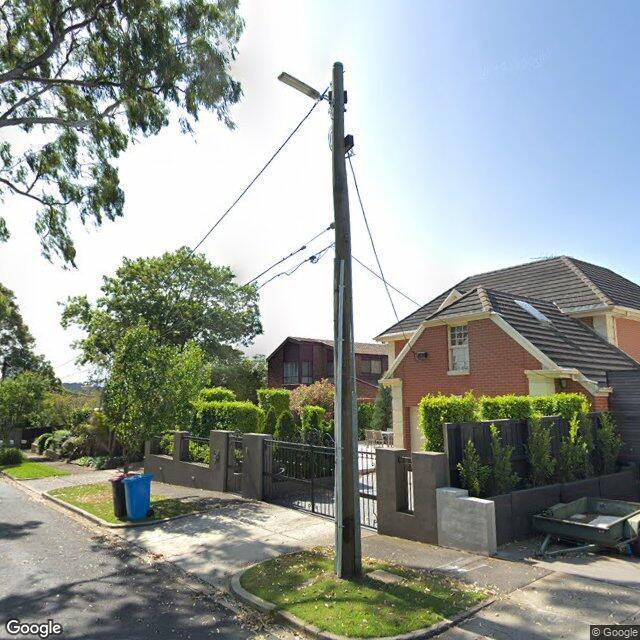streetlight: (277, 72, 331, 102)
timber-pole: (332, 62, 363, 579)
